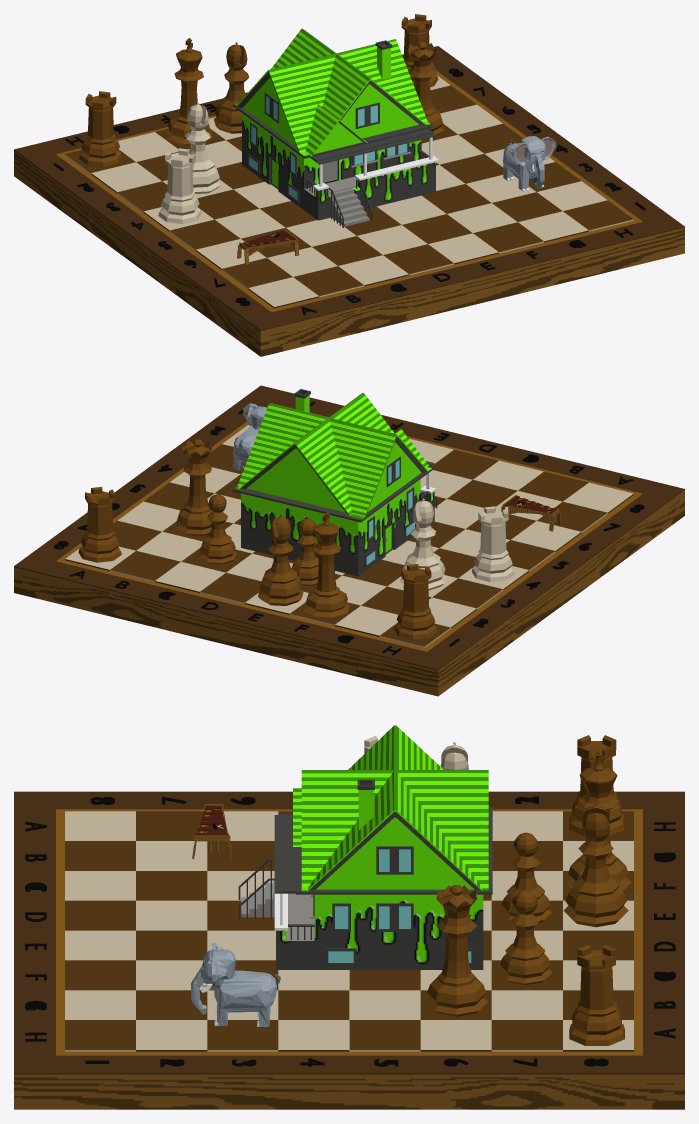
3 renders of one model, top to bottom at view 1: azimuth 30°, elevation 25°; view 2: azimuth 150°, elevation 25°; view 3: azimuth 270°, elevation 25°, orthographic. The views are drawn at different scales.
Parts seen in each view (by area): view 1: Cube.002, Cube.754, ANIMAL_ELEFANTE, OBJRANDOM_MARIMBA; view 2: Cube.002, Cube.754, ANIMAL_ELEFANTE, OBJRANDOM_MARIMBA; view 3: Cube.002, Cube.754, ANIMAL_ELEFANTE, OBJRANDOM_MARIMBA.
Boxes of the visible parts, x1,y1,x2,y2 form: Cube.002: (14,14,684,356); Cube.754: (232,28,438,227); ANIMAL_ELEFANTE: (503,136,555,191); OBJRANDOM_MARIMBA: (237,229,299,264); Cube.002: (14,385,684,696); Cube.754: (232,389,437,576); ANIMAL_ELEFANTE: (233,403,267,470); OBJRANDOM_MARIMBA: (501,495,561,531); Cube.002: (14,735,684,1109); Cube.754: (238,725,492,969); ANIMAL_ELEFANTE: (191,942,280,1026); OBJRANDOM_MARIMBA: (192,804,232,858).
Bounding box in the file's own units: 3981 × 1584 × 4012.
Materials: 27 (3 with a texture image).
